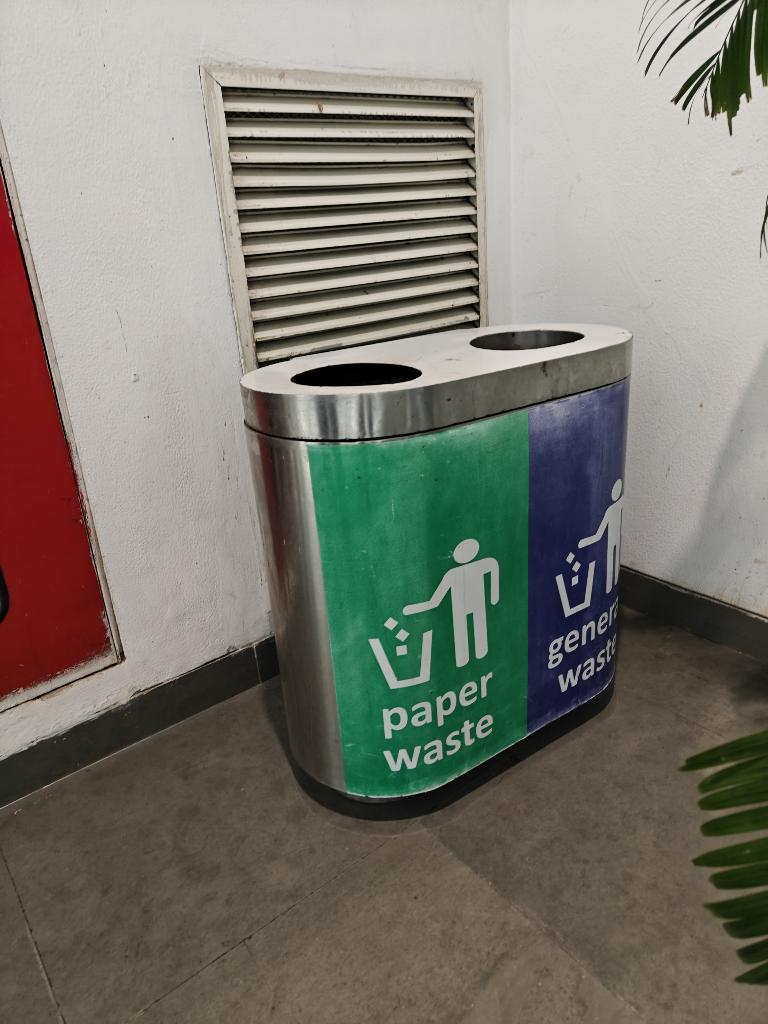dustbin: (224, 303, 638, 819)
